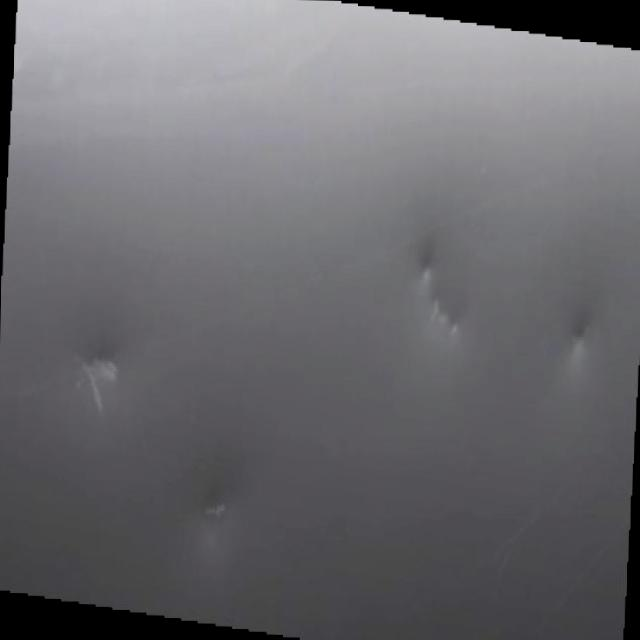dent: (402, 245, 476, 358), (73, 340, 168, 414), (184, 488, 244, 566), (566, 319, 607, 379)
